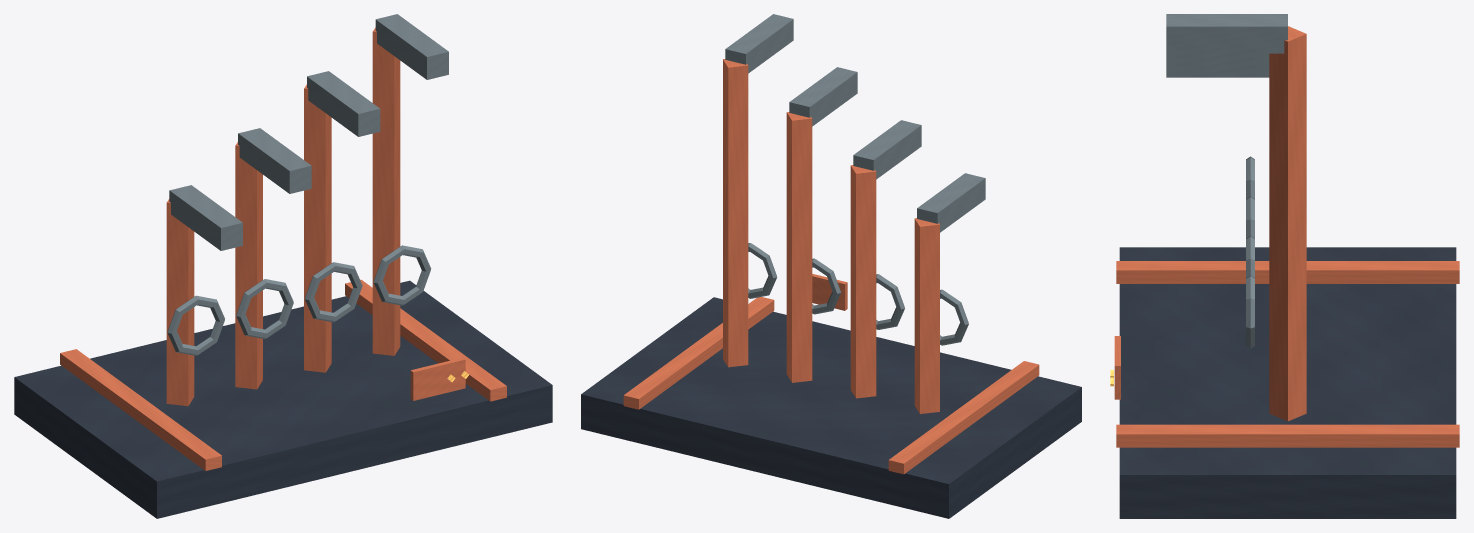
File: atlas100-s030-a03.lod1.glb
The picture shows the model from 3 angles, left to right: view 1: azimuth 30°, elevation 25°; view 2: azimuth 150°, elevation 25°; view 3: azimuth 270°, elevation 25°; orthographic projection. The views are drawn at different scales.
Parts seen in each view (by area): view 1: atlas100-s030-a03:part-000, atlas100-s030-a03:part-012, atlas100-s030-a03:part-009, atlas100-s030-a03:part-006, atlas100-s030-a03:part-003, atlas100-s030-a03:part-001, atlas100-s030-a03:part-002, atlas100-s030-a03:part-011, atlas100-s030-a03:part-008, atlas100-s030-a03:part-014, atlas100-s030-a03:part-005, atlas100-s030-a03:part-015 (+4 smaller); view 2: atlas100-s030-a03:part-000, atlas100-s030-a03:part-012, atlas100-s030-a03:part-009, atlas100-s030-a03:part-006, atlas100-s030-a03:part-003, atlas100-s030-a03:part-001, atlas100-s030-a03:part-002, atlas100-s030-a03:part-005, atlas100-s030-a03:part-008, atlas100-s030-a03:part-011, atlas100-s030-a03:part-014, atlas100-s030-a03:part-015 (+4 smaller); view 3: atlas100-s030-a03:part-000, atlas100-s030-a03:part-012, atlas100-s030-a03:part-002, atlas100-s030-a03:part-001, atlas100-s030-a03:part-014, atlas100-s030-a03:part-005, atlas100-s030-a03:part-008, atlas100-s030-a03:part-011, atlas100-s030-a03:part-013, atlas100-s030-a03:part-015.
Part boxes in pixels (left/top/right/bottom): atlas100-s030-a03:part-000: left=14, top=280, right=552, bottom=518; atlas100-s030-a03:part-012: left=372, top=27, right=400, bottom=355; atlas100-s030-a03:part-009: left=304, top=84, right=331, bottom=372; atlas100-s030-a03:part-006: left=235, top=142, right=262, bottom=389; atlas100-s030-a03:part-003: left=166, top=199, right=194, bottom=406; atlas100-s030-a03:part-001: left=60, top=349, right=221, bottom=470; atlas100-s030-a03:part-002: left=345, top=279, right=506, bottom=401; atlas100-s030-a03:part-011: left=307, top=71, right=380, bottom=136; atlas100-s030-a03:part-008: left=238, top=128, right=311, bottom=193; atlas100-s030-a03:part-014: left=375, top=14, right=448, bottom=79; atlas100-s030-a03:part-005: left=169, top=185, right=242, bottom=250; atlas100-s030-a03:part-015: left=410, top=357, right=465, bottom=400; atlas100-s030-a03:part-000: left=581, top=297, right=1081, bottom=518; atlas100-s030-a03:part-012: left=723, top=59, right=748, bottom=367; atlas100-s030-a03:part-009: left=786, top=112, right=812, bottom=382; atlas100-s030-a03:part-006: left=850, top=165, right=876, bottom=398; atlas100-s030-a03:part-003: left=914, top=218, right=939, bottom=413; atlas100-s030-a03:part-001: left=888, top=361, right=1039, bottom=474; atlas100-s030-a03:part-002: left=623, top=297, right=774, bottom=409; atlas100-s030-a03:part-005: left=917, top=173, right=985, bottom=232; atlas100-s030-a03:part-008: left=853, top=120, right=921, bottom=179; atlas100-s030-a03:part-011: left=789, top=67, right=857, bottom=126; atlas100-s030-a03:part-014: left=725, top=14, right=793, bottom=73; atlas100-s030-a03:part-015: left=812, top=274, right=847, bottom=310; atlas100-s030-a03:part-000: left=1119, top=247, right=1456, bottom=518; atlas100-s030-a03:part-012: left=1269, top=26, right=1306, bottom=421; atlas100-s030-a03:part-002: left=1116, top=424, right=1459, bottom=447; atlas100-s030-a03:part-001: left=1116, top=261, right=1459, bottom=283; atlas100-s030-a03:part-014: left=1166, top=14, right=1287, bottom=53; atlas100-s030-a03:part-005: left=1166, top=69, right=1269, bottom=77; atlas100-s030-a03:part-008: left=1166, top=61, right=1269, bottom=69; atlas100-s030-a03:part-011: left=1166, top=53, right=1269, bottom=61; atlas100-s030-a03:part-013: left=1246, top=275, right=1254, bottom=348; atlas100-s030-a03:part-015: left=1114, top=336, right=1120, bottom=399.
Size of the model in its own units: 2.88 by 2.62 by 1.87.
4 materials, 4 textured.
